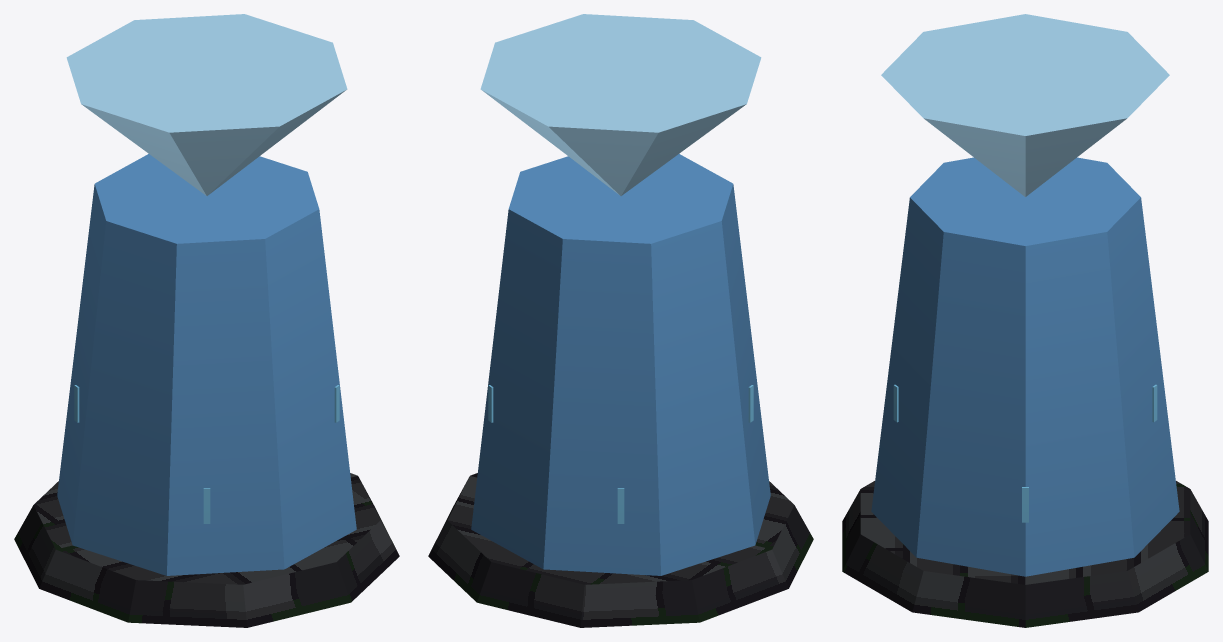
The model's file is glacier_heart.glb.
The picture shows the model from 3 angles, left to right: view 1: azimuth 30°, elevation 25°; view 2: azimuth 150°, elevation 25°; view 3: azimuth 270°, elevation 25°; orthographic projection.
Parts seen in each view (by area): view 1: glacier_heart; view 2: glacier_heart; view 3: glacier_heart.
Part boxes in pixels (bbox=[...]): glacier_heart: bbox=[14, 14, 399, 627]; glacier_heart: bbox=[428, 14, 813, 627]; glacier_heart: bbox=[842, 14, 1208, 627].
Bounding box in the file's own units: 4 × 5.4 × 3.8.
3 materials, 1 textured.
